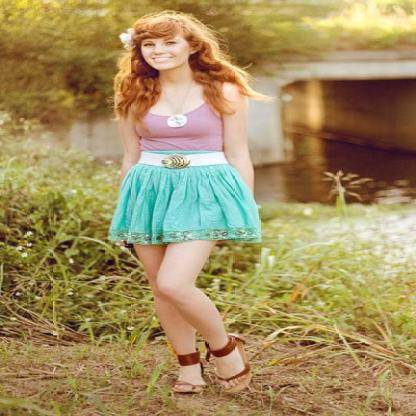shirt: (133, 108, 227, 164)
shoe: (177, 342, 211, 374)
skirt: (107, 164, 260, 244)
